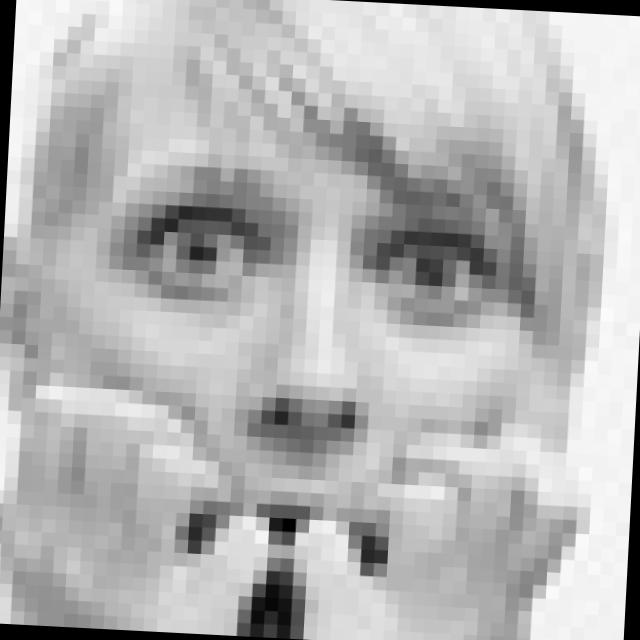fear: (86, 153, 513, 614)
